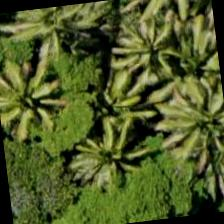Kelapa_Sawit: (104, 1, 204, 102), (66, 108, 166, 208), (0, 54, 77, 153), (149, 21, 223, 119), (9, 0, 105, 70), (159, 78, 223, 176)
